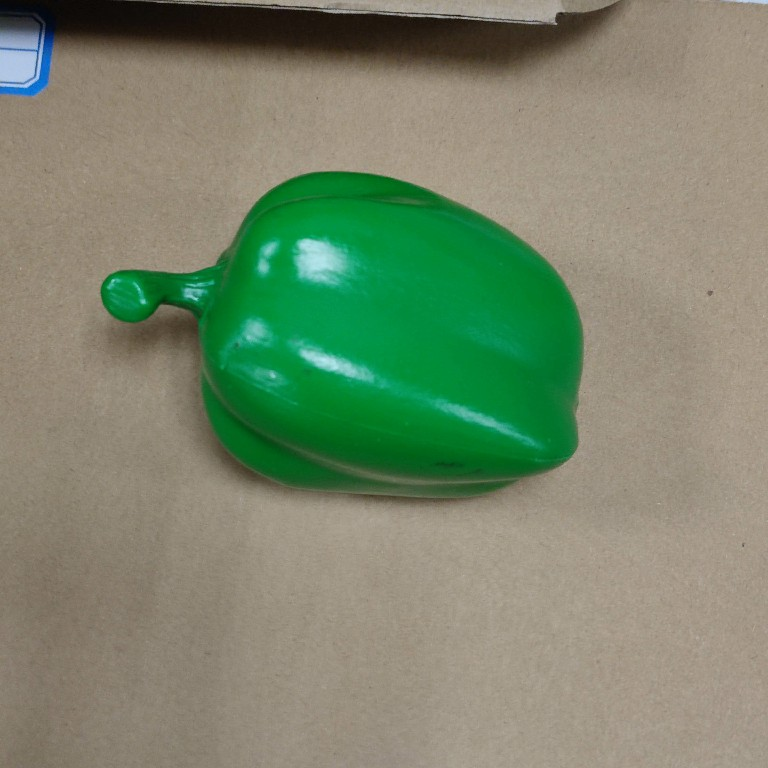fruit_pepper: (94, 166, 590, 505)
